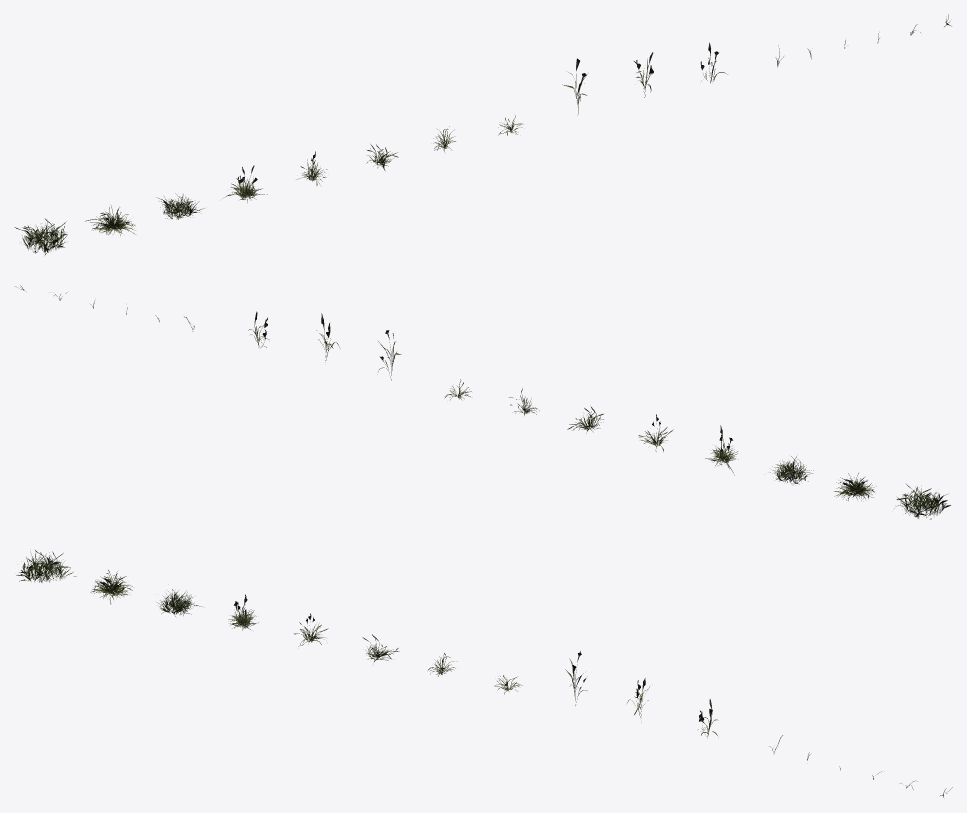
The model's file is grass_clump.glb.
3 views of the same model, one above another, from view 1: azimuth 30°, elevation 25°; view 2: azimuth 150°, elevation 25°; view 3: azimuth 330°, elevation 25° (orthographic).
Parts seen in each view (by area): view 1: grass_medium_01_large_a_LOD0, grass_medium_01_large_b_LOD0, grass_medium_01_large_c_LOD0; view 2: grass_medium_01_large_a_LOD0, grass_medium_01_large_c_LOD0, grass_medium_01_large_b_LOD0; view 3: grass_medium_01_large_a_LOD0, grass_medium_01_large_b_LOD0, grass_medium_01_large_c_LOD0.
Part boxes in pixels (x1,y1,x2,y2): grass_medium_01_large_a_LOD0: (14, 218, 67, 254); grass_medium_01_large_b_LOD0: (85, 205, 135, 235); grass_medium_01_large_c_LOD0: (157, 193, 203, 219); grass_medium_01_large_a_LOD0: (894, 484, 950, 519); grass_medium_01_large_c_LOD0: (770, 456, 813, 484); grass_medium_01_large_b_LOD0: (834, 473, 876, 500); grass_medium_01_large_a_LOD0: (16, 550, 76, 582); grass_medium_01_large_b_LOD0: (90, 570, 132, 604); grass_medium_01_large_c_LOD0: (157, 589, 202, 616).
Bounding box in the file's own units: 5.6 × 0.3389 × 0.3266.
Materials: 1 (1 with a texture image).
